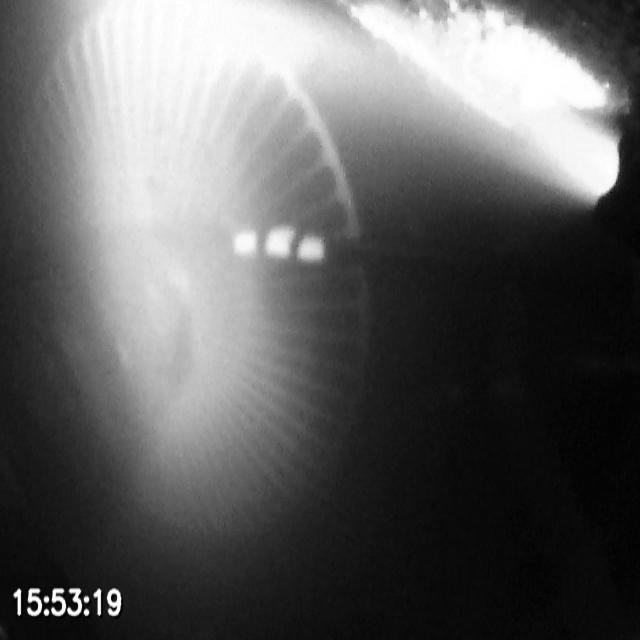white-dots: (232, 222, 328, 264)
